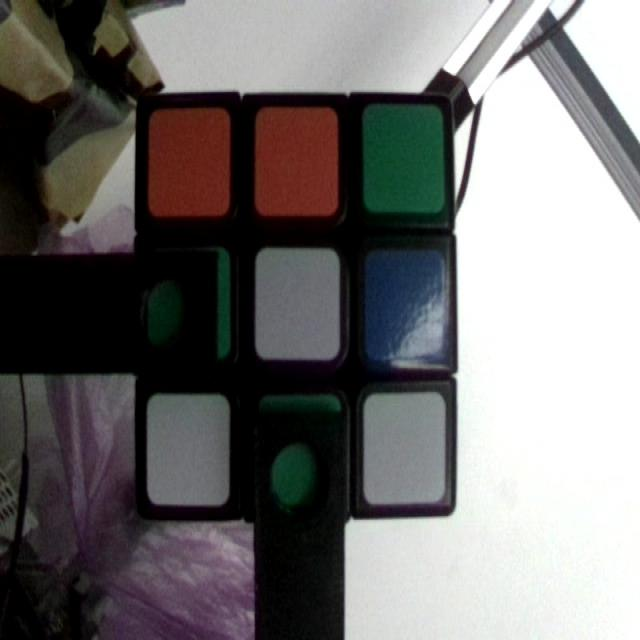b: (364, 247, 444, 354)
g: (149, 253, 230, 358), (366, 108, 445, 214), (262, 397, 337, 501)
o: (150, 108, 228, 214), (256, 108, 334, 213)
w: (147, 392, 231, 502), (258, 246, 338, 355), (367, 398, 447, 503)
